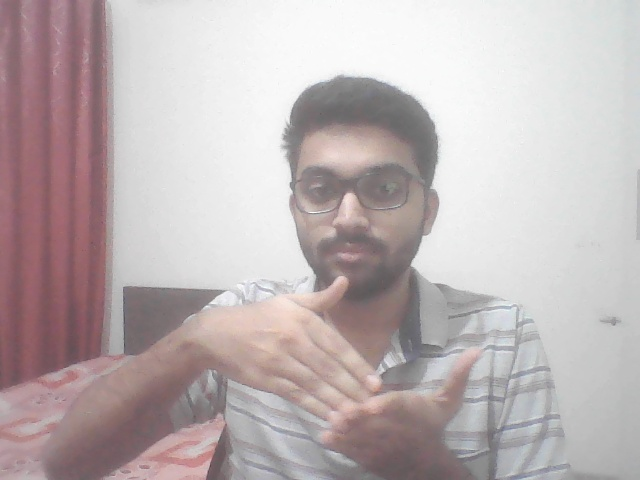again: (171, 267, 482, 473)
